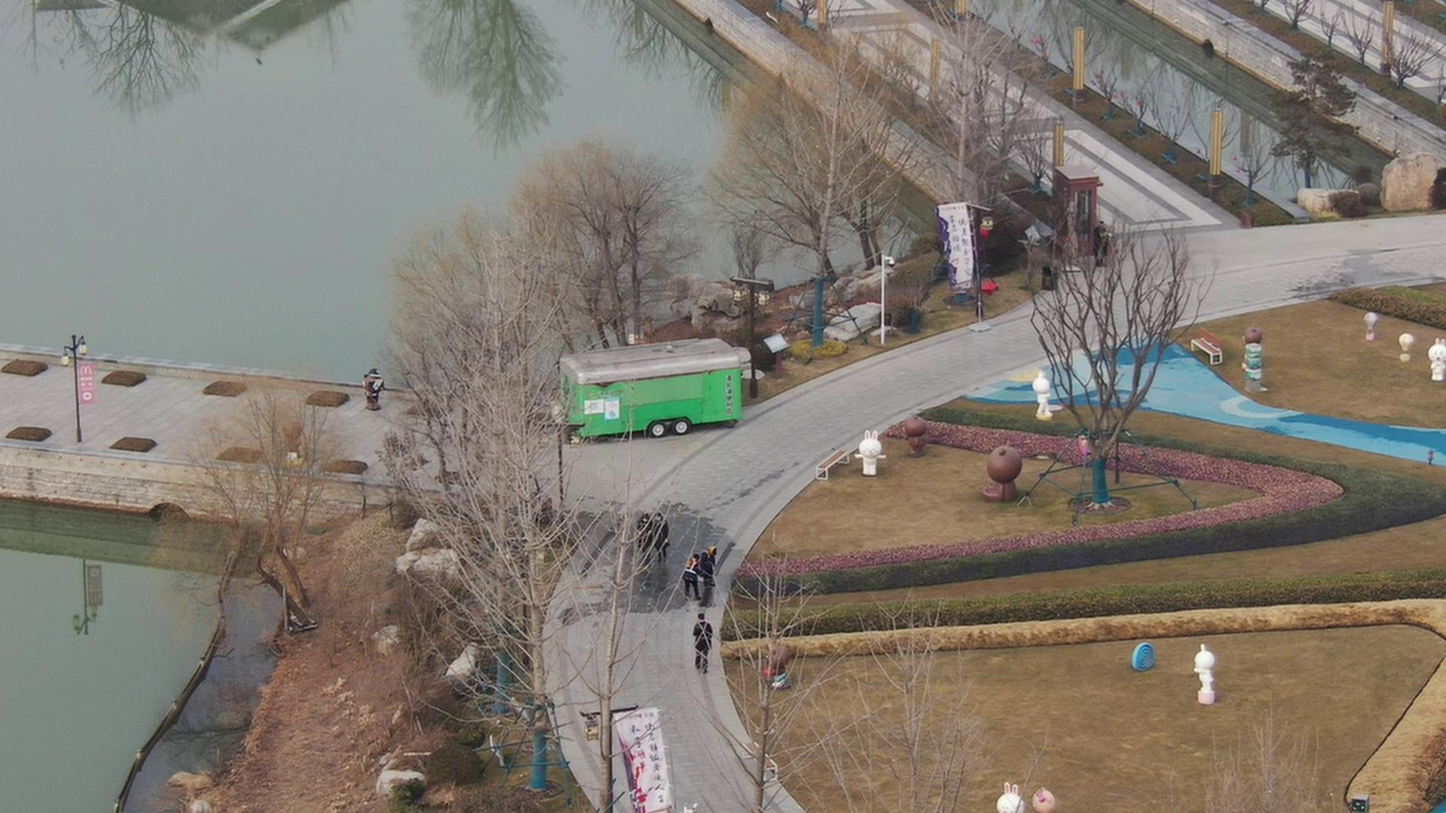class_2: (635, 514, 669, 575)
human: (682, 617, 716, 687), (692, 542, 719, 595), (675, 559, 697, 604)
